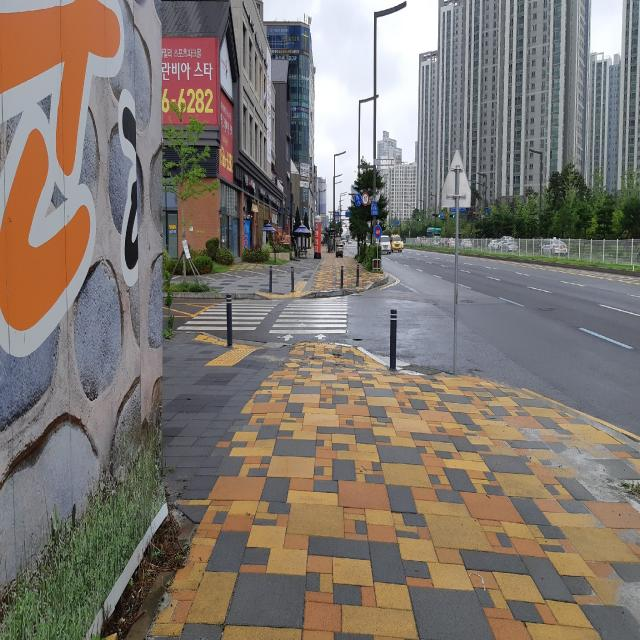횡단보도: (176, 295, 348, 342)
